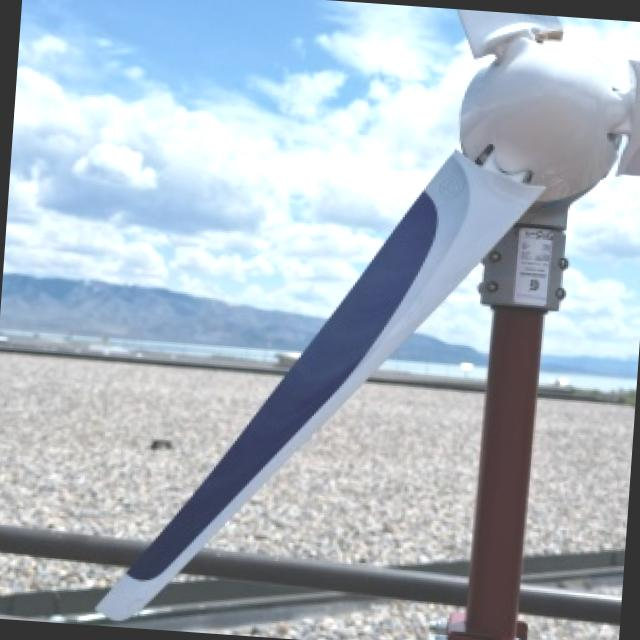healthy: (102, 9, 640, 640)
